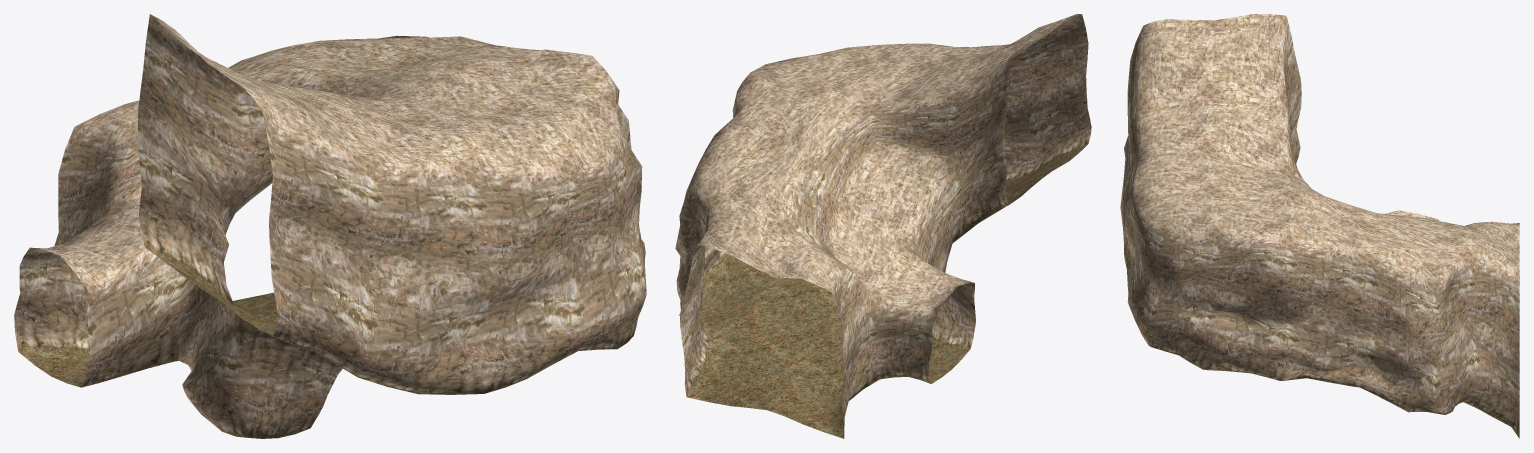
File: thm_all_cave_flatland_s02_r3_mesh_r3.fbx
3 renders of one model, left to right at view 1: azimuth 30°, elevation 25°; view 2: azimuth 150°, elevation 25°; view 3: azimuth 270°, elevation 25°, orthographic. The views are drawn at different scales.
Parts seen in each view (by area): view 1: mesh_node; view 2: mesh_node; view 3: mesh_node.
Part boxes in pixels (left/top/right/bottom): mesh_node: left=14, top=14, right=646, bottom=438; mesh_node: left=675, top=14, right=1091, bottom=438; mesh_node: left=1120, top=14, right=1519, bottom=438.
Bounding box in the file's own units: 41.68 × 44.73 × 50.2.
